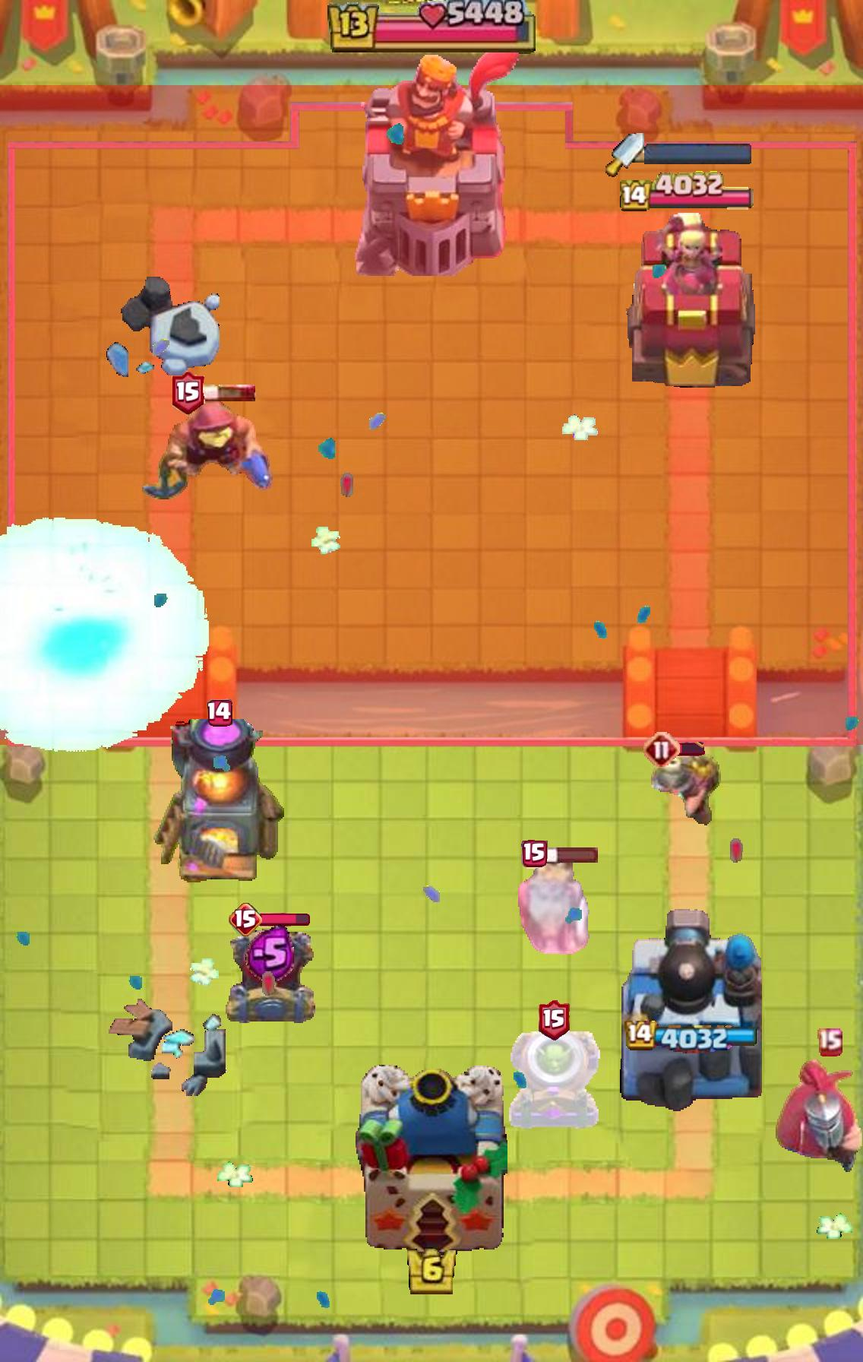bar: (201, 384, 256, 402), (544, 845, 599, 863), (258, 912, 310, 927), (676, 742, 705, 757)
bar-level: (172, 370, 205, 416), (643, 731, 680, 768), (538, 1000, 570, 1040), (229, 903, 263, 937), (522, 840, 548, 869), (207, 699, 232, 727), (817, 1028, 842, 1056)
